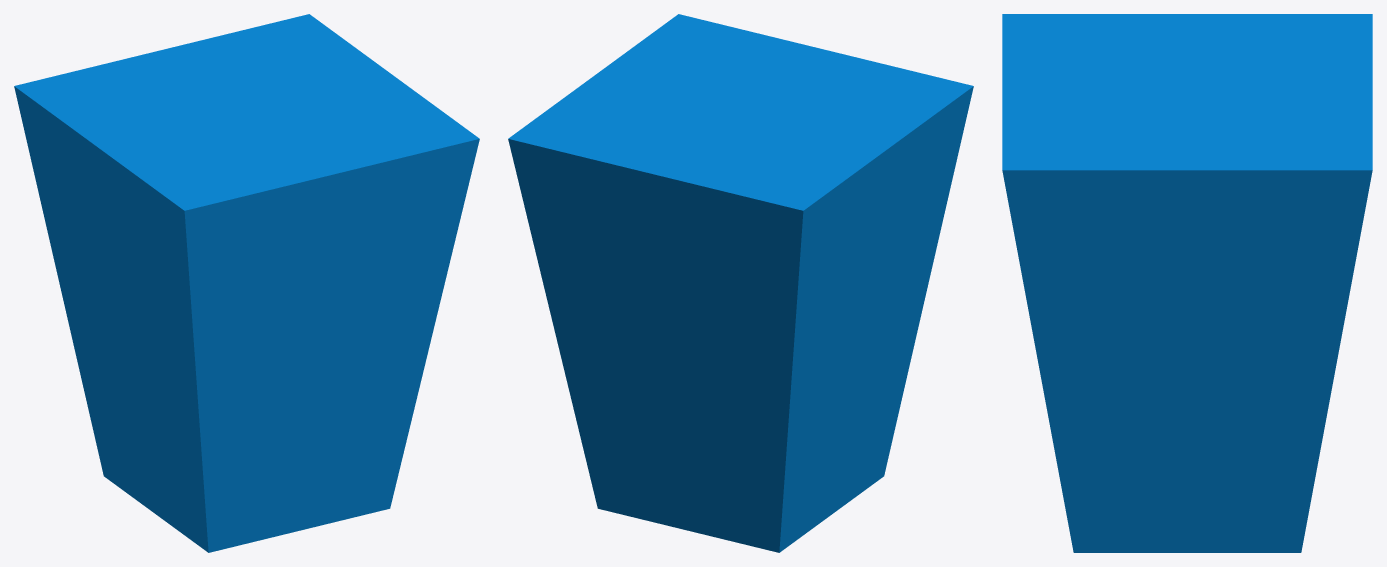
File: trash.glb
The picture shows the model from 3 angles, left to right: view 1: azimuth 30°, elevation 25°; view 2: azimuth 150°, elevation 25°; view 3: azimuth 270°, elevation 25°; orthographic projection. The views are drawn at different scales.
Parts seen in each view (by area): view 1: Cube; view 2: Cube; view 3: Cube.
Part boxes in pixels (<box>): Cube: <box>14,14,479,552</box>; Cube: <box>508,14,973,552</box>; Cube: <box>1002,14,1372,552</box>.
Size of the model in its own units: 0.3253 by 0.4 by 0.3253.
